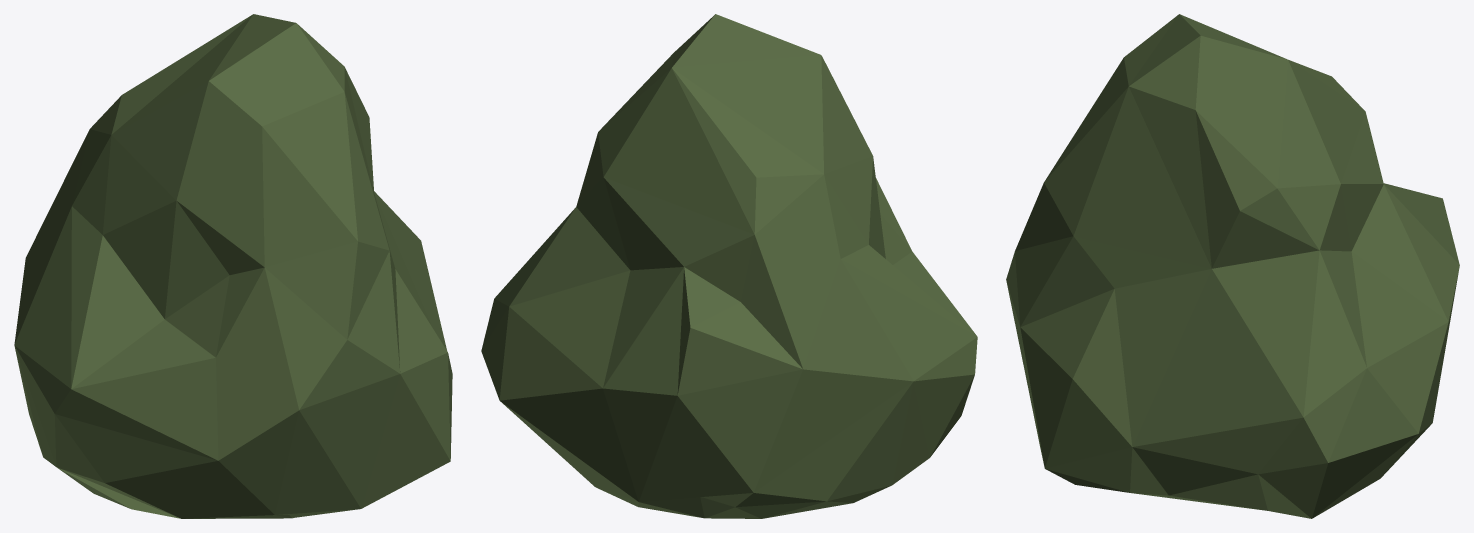
Rendered from SM_Envr_Nature_Plant_Bush_04.fbx.
The picture shows the model from 3 angles, left to right: view 1: azimuth 30°, elevation 25°; view 2: azimuth 150°, elevation 25°; view 3: azimuth 270°, elevation 25°; orthographic projection. The views are drawn at different scales.
Parts seen in each view (by area): view 1: SM_Envr_Nature_Plant_Bush_04; view 2: SM_Envr_Nature_Plant_Bush_04; view 3: SM_Envr_Nature_Plant_Bush_04.
Part boxes in pixels (x1,y1,x2,y2): SM_Envr_Nature_Plant_Bush_04: [14, 14, 452, 518]; SM_Envr_Nature_Plant_Bush_04: [481, 14, 977, 518]; SM_Envr_Nature_Plant_Bush_04: [1006, 14, 1459, 518].
Size of the model in its own units: 187 by 182 by 171.
